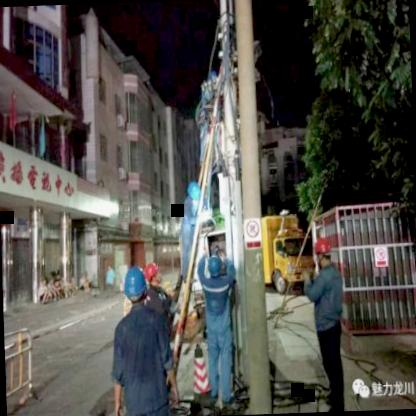helmet: (122, 267, 150, 309), (204, 254, 226, 284), (141, 258, 164, 286), (312, 236, 334, 264), (187, 178, 202, 206)
